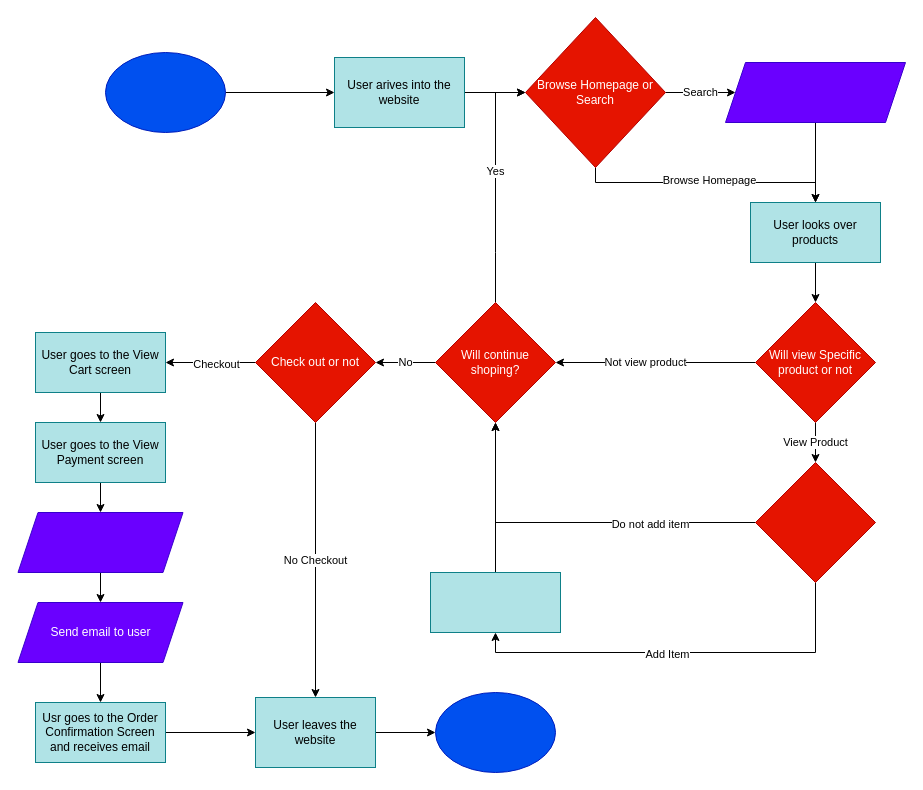
Image size: 923x790. Some labels were removed from this diagram. The shapes that lost their labels are listed below. From the top down, each one's centre as x and y in pixels, then its label:
point 165,92: Start
point 815,92: Read User Input for search
point 100,542: Read User Payment Information input
point 815,522: Add item to cart or not
point 495,602: Add to Cart Confirmation Screen
point 495,732: End
